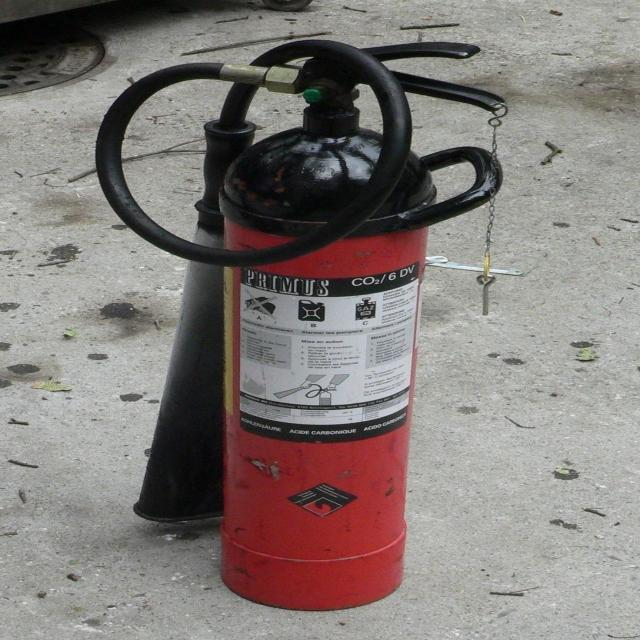fire_extinguisher: (84, 31, 522, 620)
